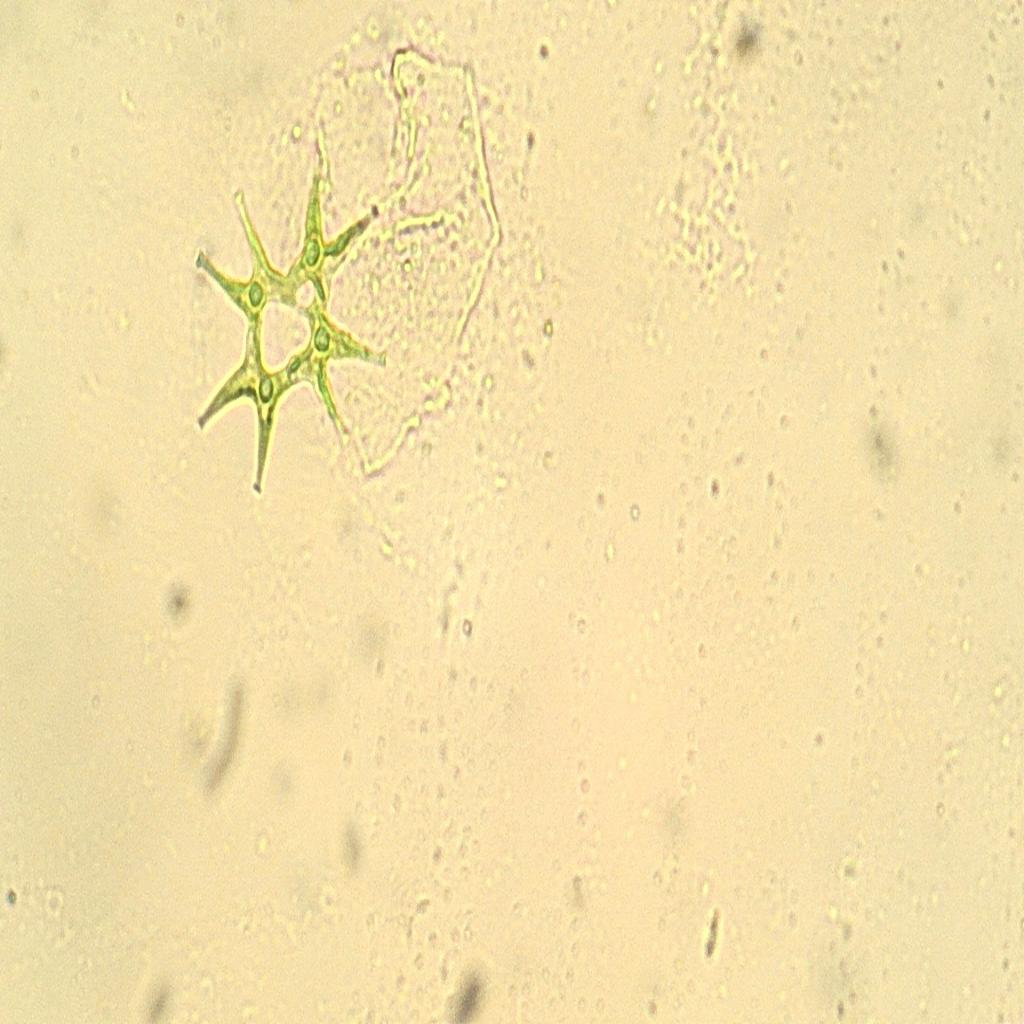Pediastrum_CF: (188, 132, 403, 526)
